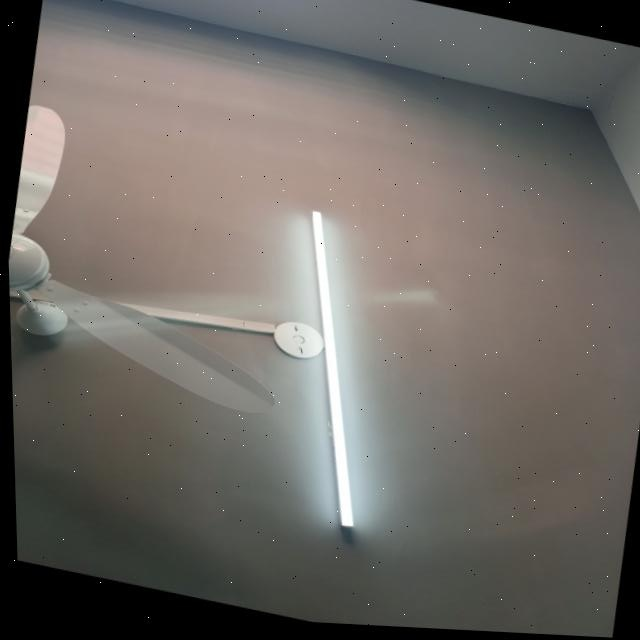fluorescent tube: (257, 205, 406, 540)
